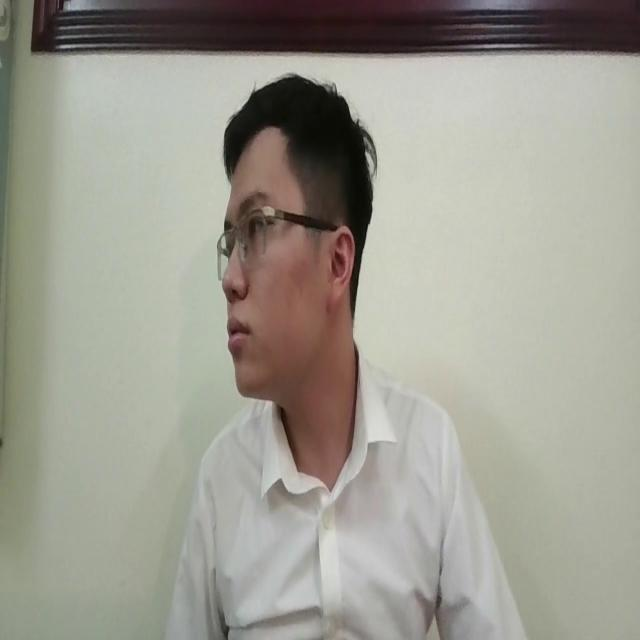student: (151, 73, 525, 640)
